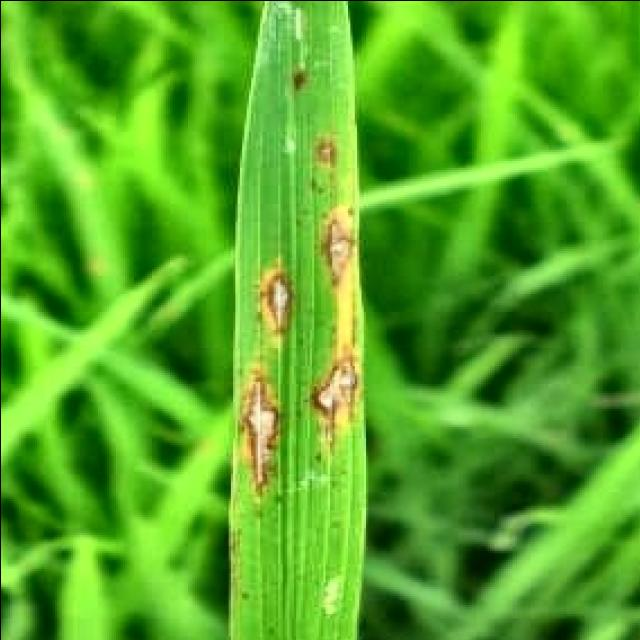Leaf_Blast: (235, 57, 368, 510)
